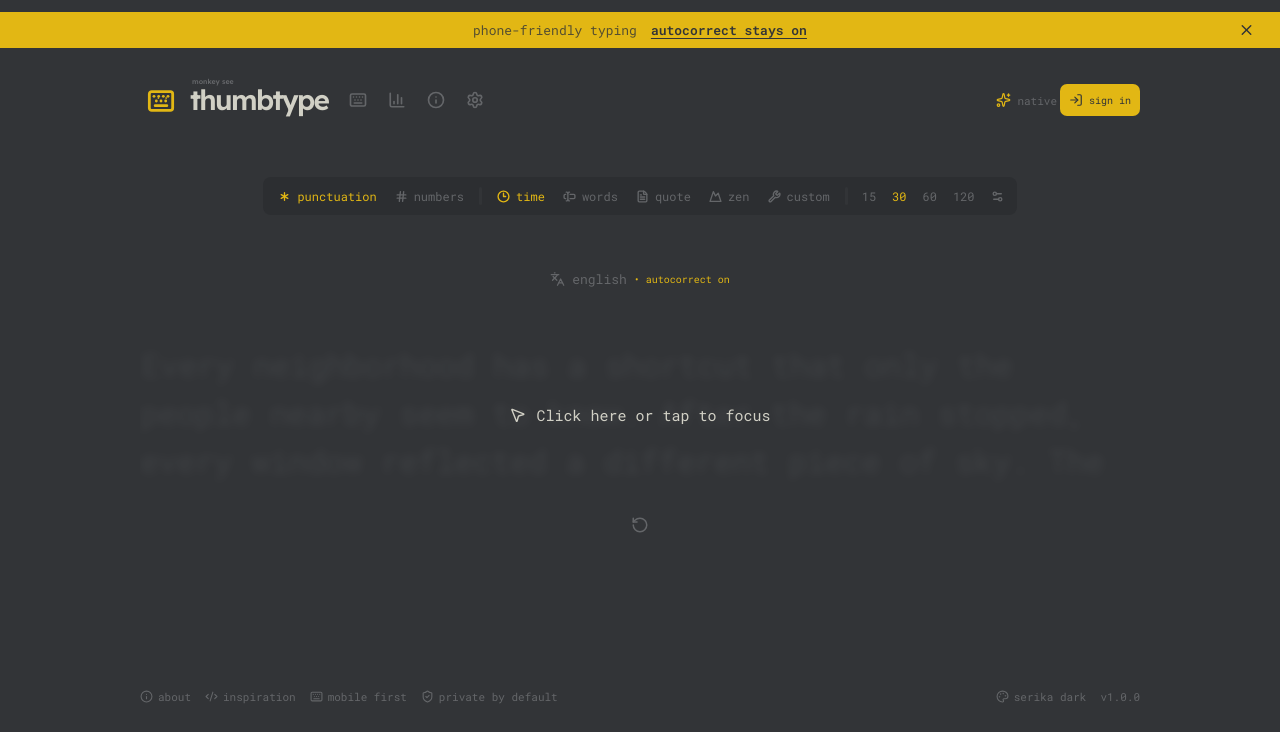
Scenario: React app › shows proportional progress once a run starts
In the text box named "Typing test input": (640, 415) [140,331,1140,499], type "a"
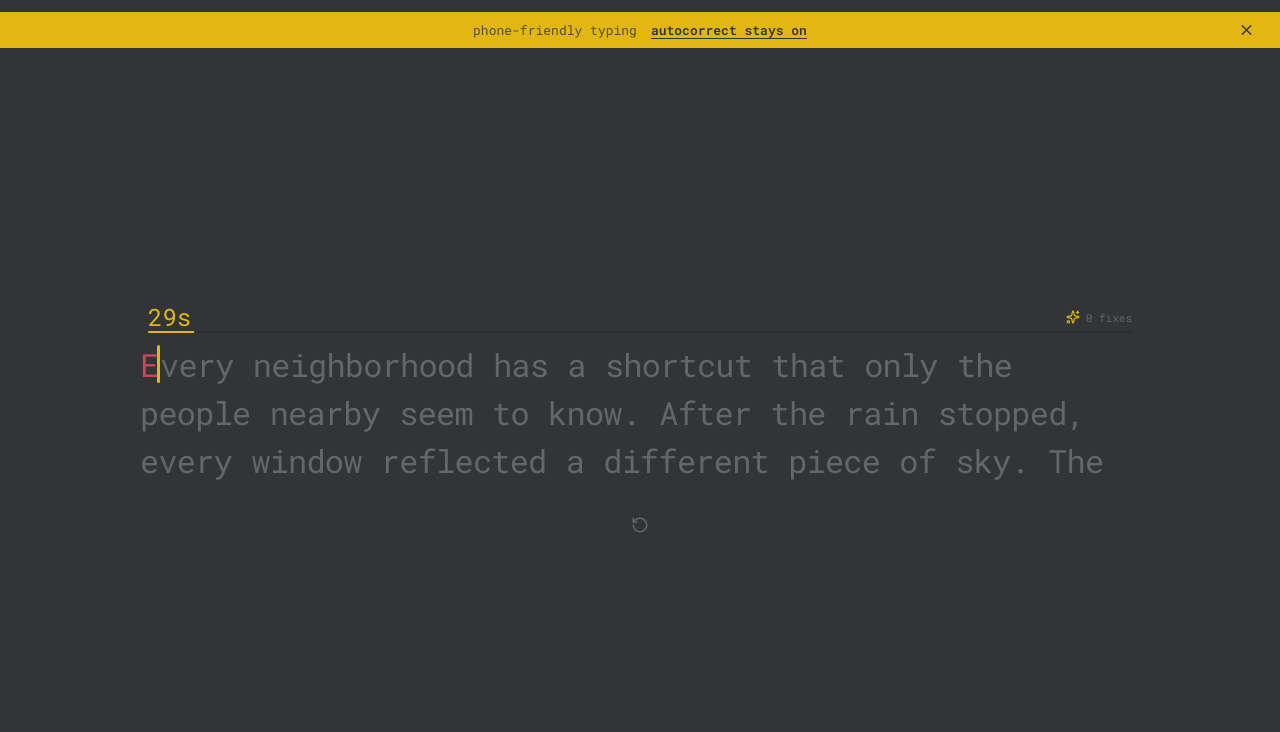
Result: the progress indicator named "Test progress" is shown at [148,331,1132,333]
